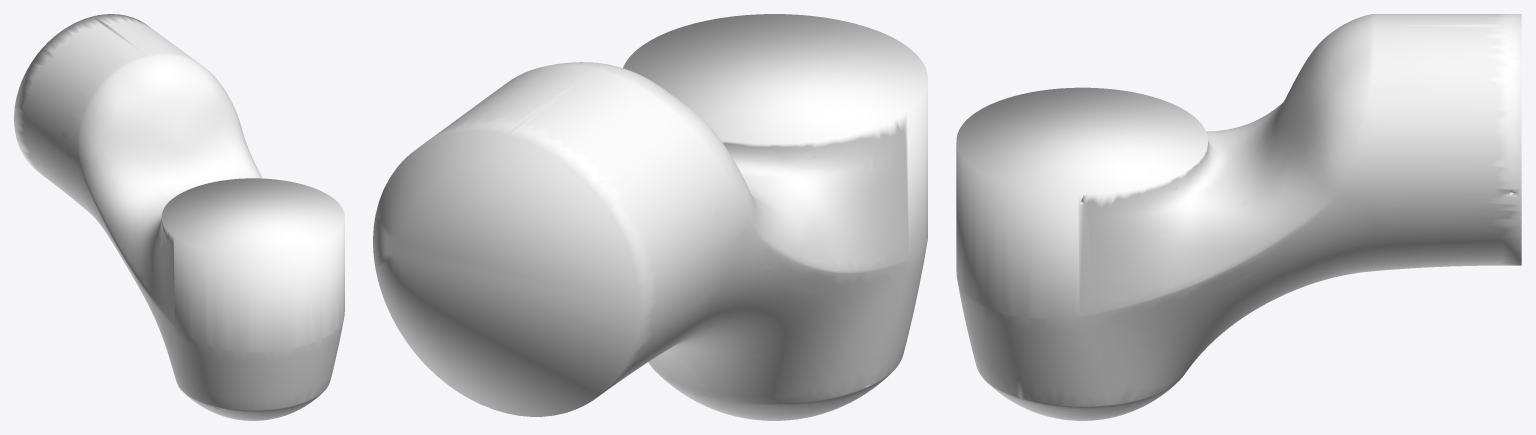
3 renders of one model, left to right at view 1: azimuth 30°, elevation 25°; view 2: azimuth 150°, elevation 25°; view 3: azimuth 270°, elevation 25°, orthographic. The views are drawn at different scales.
Parts seen in each view (by area): view 1: node0_Part__Feature.003; view 2: node0_Part__Feature.003; view 3: node0_Part__Feature.003.
Part boxes in pixels (bbox=[...]): node0_Part__Feature.003: bbox=[14, 14, 344, 420]; node0_Part__Feature.003: bbox=[373, 14, 927, 420]; node0_Part__Feature.003: bbox=[956, 14, 1521, 420].
Bounding box in the file's own units: 0.11 × 0.1844 × 0.247.
1 material, 1 textured.
